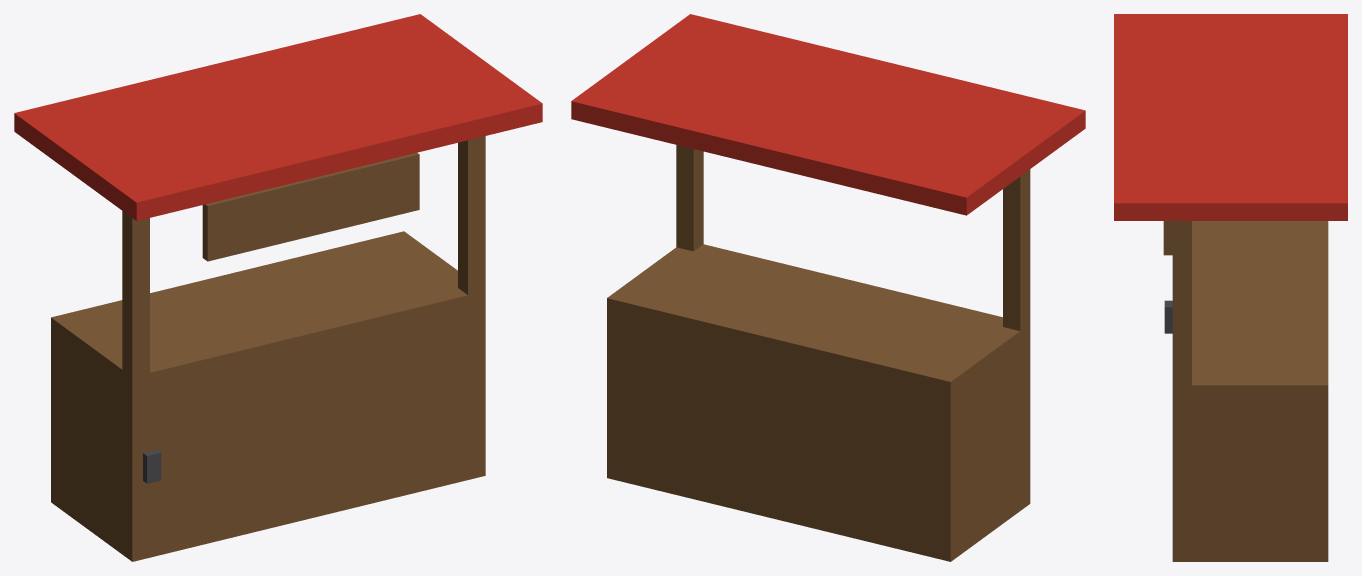
File: stall.obj
3 renders of one model, left to right at view 1: azimuth 30°, elevation 25°; view 2: azimuth 150°, elevation 25°; view 3: azimuth 270°, elevation 25°, orthographic. The views are drawn at different scales.
Visible parts, largest first — view 1: counter, awning, sign, post_l, post_r; view 2: counter, awning, post_l, post_r; view 3: counter, awning, post_r, sign, hinge_l.
Part boxes in pixels (x1,y1,x2,y2): counter: [51, 231, 485, 561]; awning: [14, 14, 542, 220]; sign: [202, 153, 419, 261]; post_l: [122, 211, 149, 376]; post_r: [458, 136, 485, 295]; counter: [607, 244, 1030, 561]; awning: [571, 14, 1085, 215]; post_l: [1003, 169, 1030, 330]; post_r: [676, 145, 703, 251]; counter: [1172, 221, 1328, 561]; awning: [1114, 14, 1347, 220]; post_r: [1172, 221, 1191, 385]; sign: [1163, 221, 1172, 255]; hinge_l: [1164, 300, 1172, 333].
Size of the model in its own units: 2.3 by 2.1 by 1.2.
